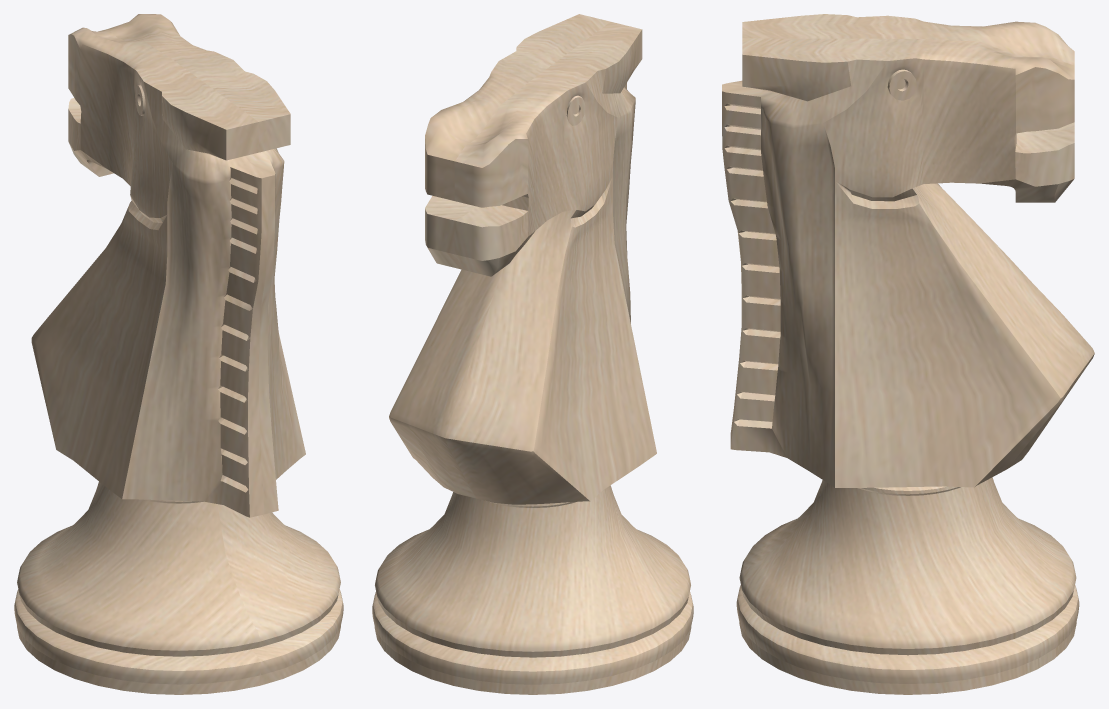
Rendered from knight.glb.
3 renders of one model, left to right at view 1: azimuth 30°, elevation 25°; view 2: azimuth 150°, elevation 25°; view 3: azimuth 270°, elevation 25°, orthographic. The views are drawn at different scales.
Visible parts, largest first — view 1: Cylinder003; view 2: Cylinder003; view 3: Cylinder003.
Part boxes in pixels (x1,y1,x2,y2): Cylinder003: (14,14,343,694); Cylinder003: (372,14,693,694); Cylinder003: (722,14,1094,694).
Bounding box in the file's own units: 0.0157 × 0.0297 × 0.0171.
1 material, 1 textured.
